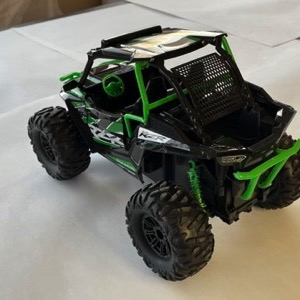polaris: (26, 23, 299, 283)
